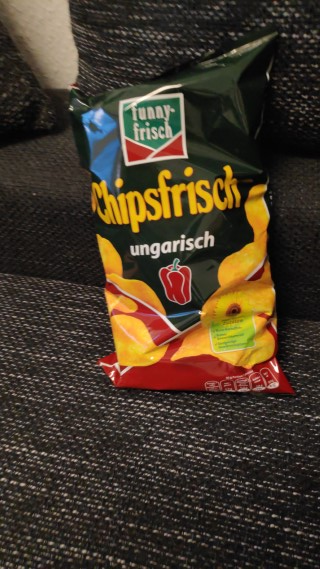chipsfrisch: (65, 26, 301, 397)
